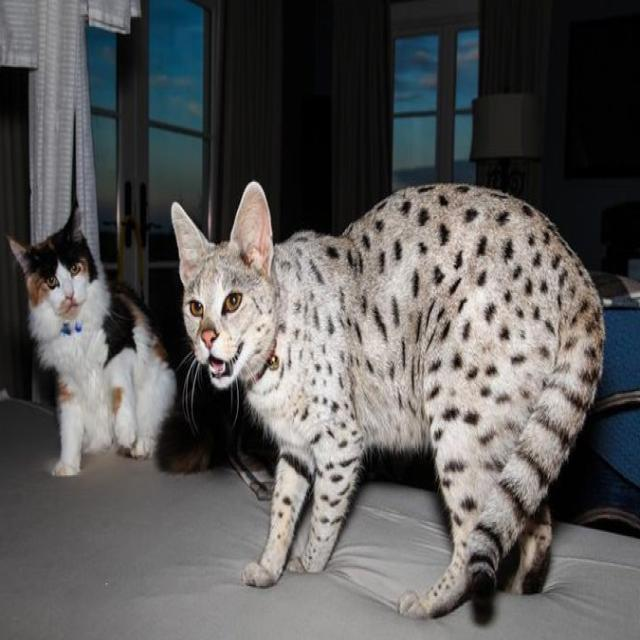Savannah: (168, 174, 611, 628)
